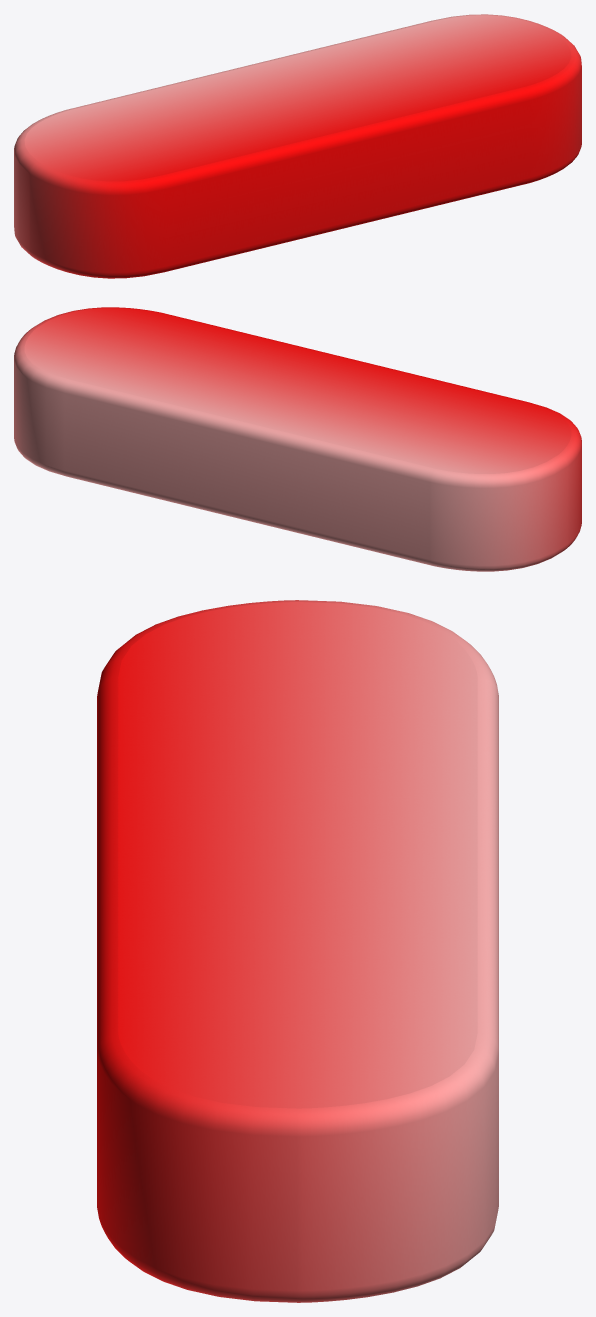
File: Paddle-29.dae
The picture shows the model from 3 angles, top to bottom: view 1: azimuth 30°, elevation 25°; view 2: azimuth 150°, elevation 25°; view 3: azimuth 270°, elevation 25°; orthographic projection. The views are drawn at different scales.
Visible parts, largest first — view 1: Paddle; view 2: Paddle; view 3: Paddle.
Boxes of the visible parts, x1=… form: Paddle: x1=14, y1=14, x2=581, y2=278; Paddle: x1=14, y1=307, x2=581, y2=571; Paddle: x1=97, y1=600, x2=498, y2=1302.
Size of the model in its own units: 0.2922 by 0.05 by 0.0947.
1 material, 1 textured.
